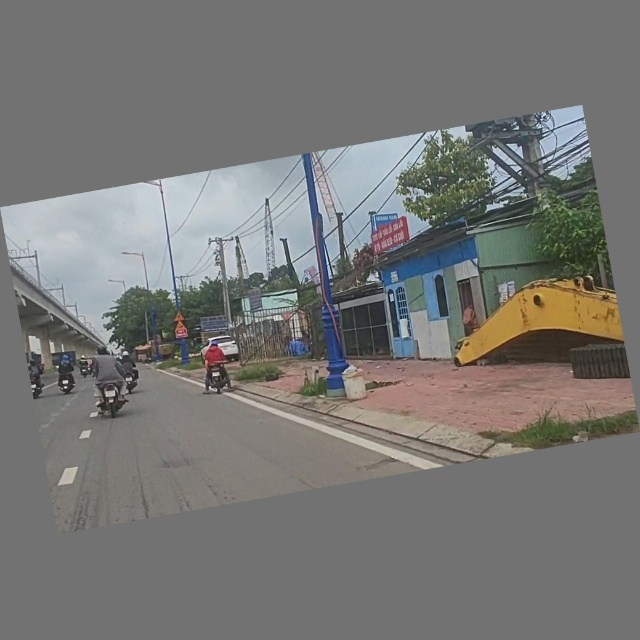W.203c: (173, 311, 186, 322)
W.245a: (174, 321, 186, 330)
